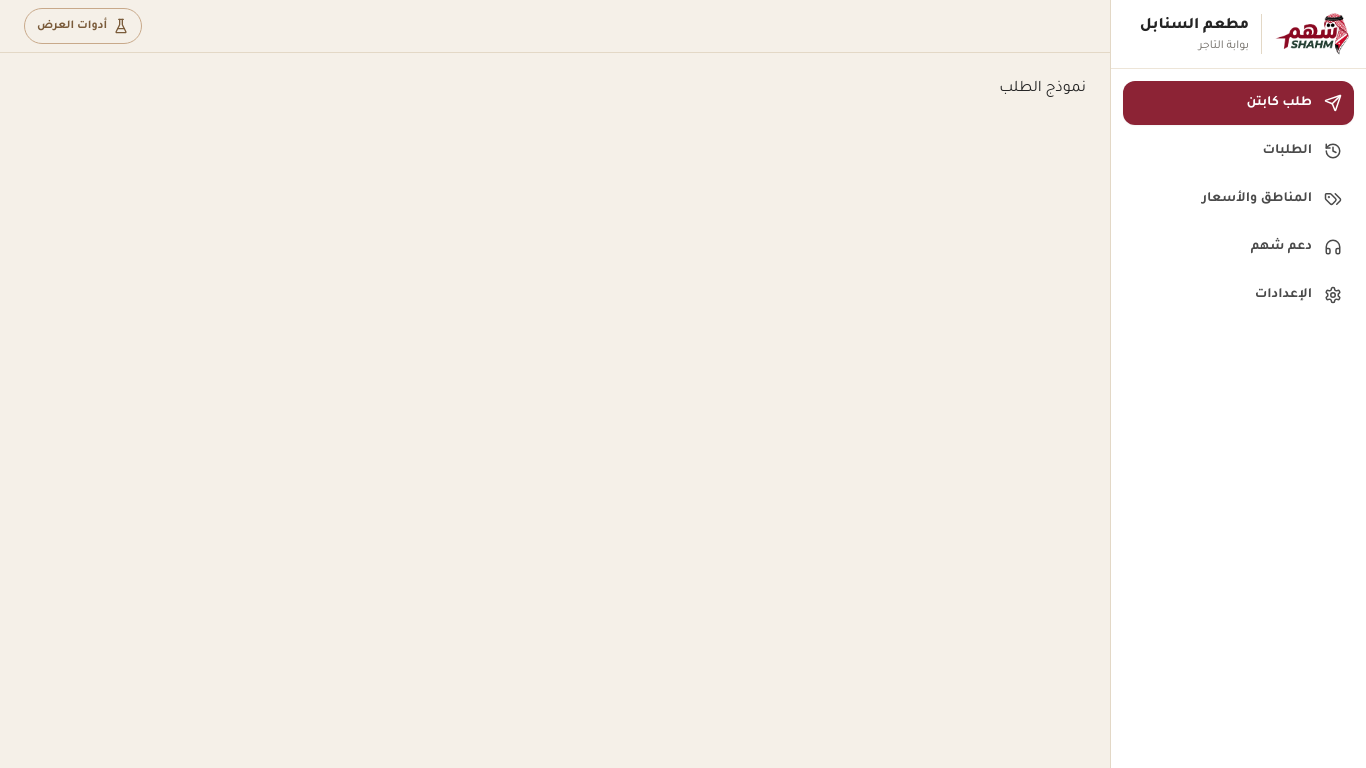
Test: Merchant navigation (right sidebar) › «دعم شهم» opens the official support dialog
Click the button "دعم شهم".
click(1238, 247)  # box [1123,225,1354,269]
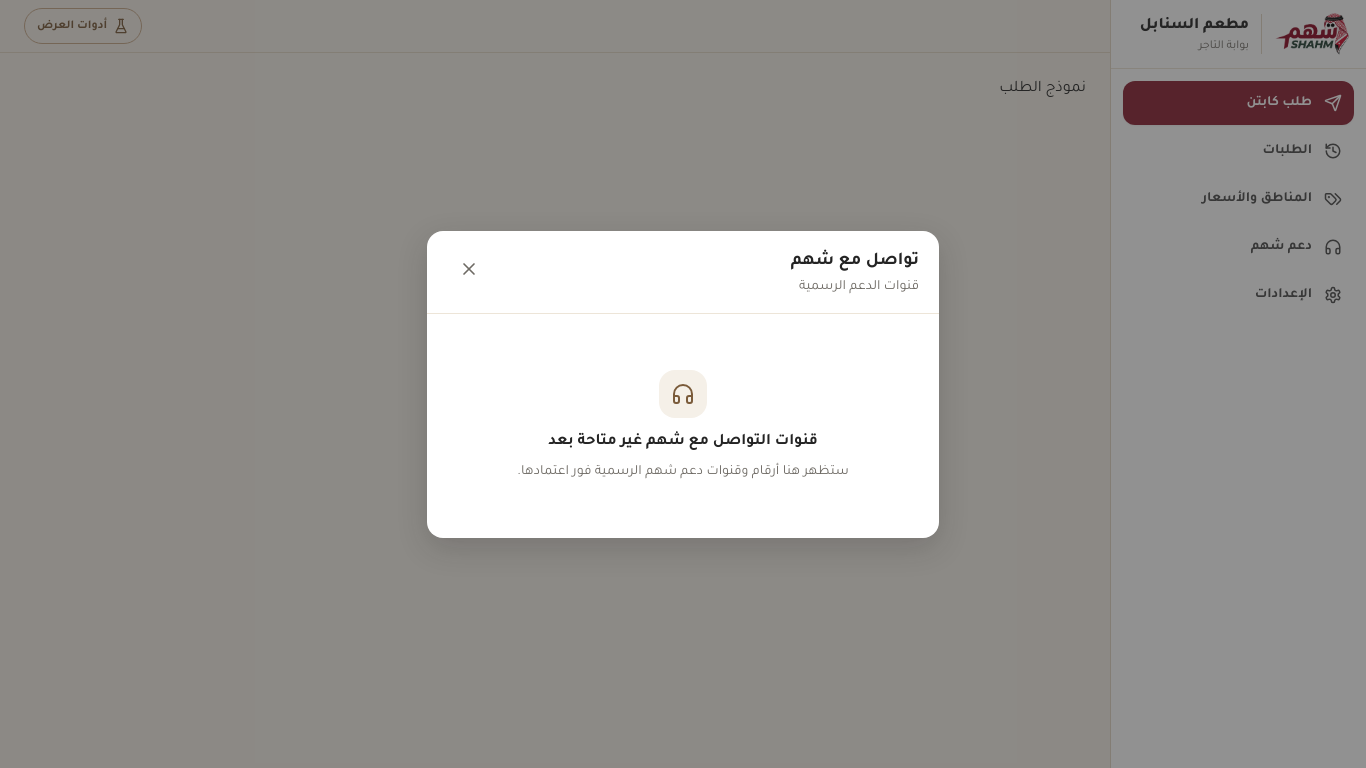
Expected: the dialog "تواصل مع شهم" is shown, [427,230,939,538]
